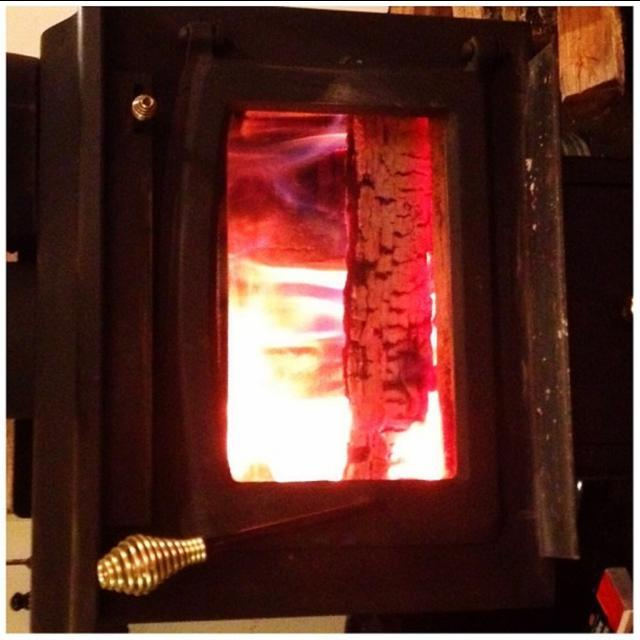Fire: (230, 117, 440, 480)
